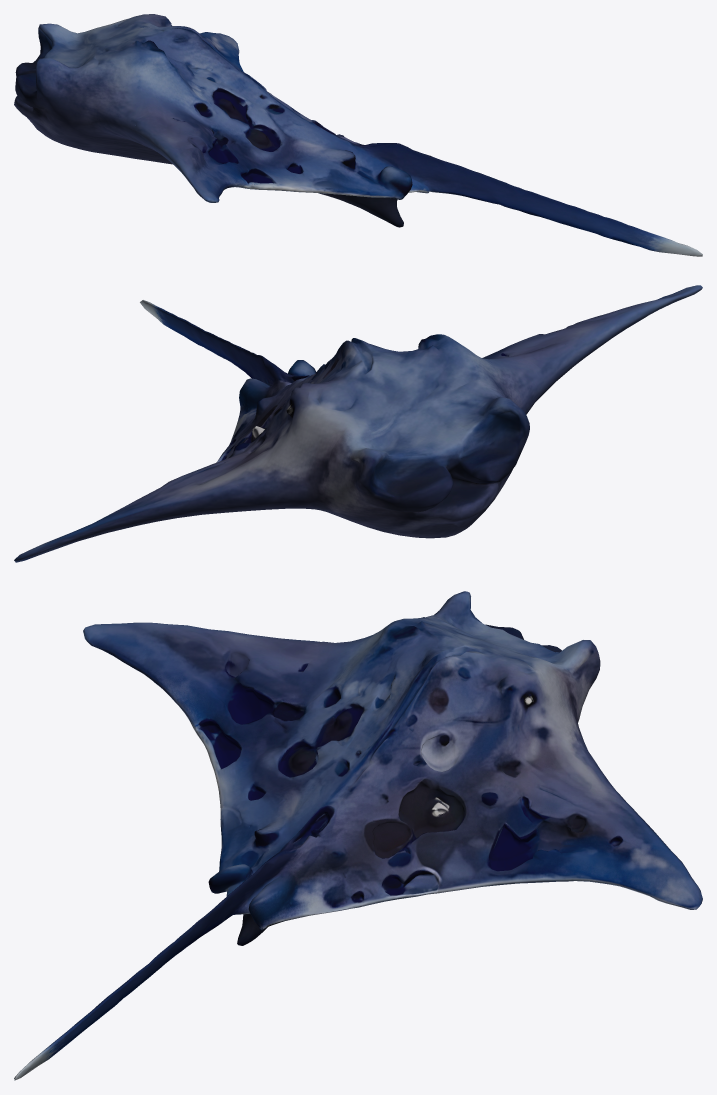
File: manta_ray.glb
3 views of the same model, one above another, from view 1: azimuth 30°, elevation 25°; view 2: azimuth 150°, elevation 25°; view 3: azimuth 270°, elevation 25° (orthographic). The views are drawn at different scales.
Parts seen in each view (by area): view 1: tripo_node_f57514a1-51a5-47d8-8b32-bb49f2d0eb9c; view 2: tripo_node_f57514a1-51a5-47d8-8b32-bb49f2d0eb9c; view 3: tripo_node_f57514a1-51a5-47d8-8b32-bb49f2d0eb9c.
Boxes of the visible parts, <box> form: tripo_node_f57514a1-51a5-47d8-8b32-bb49f2d0eb9c: <box>14,14,702,256</box>; tripo_node_f57514a1-51a5-47d8-8b32-bb49f2d0eb9c: <box>14,285,702,562</box>; tripo_node_f57514a1-51a5-47d8-8b32-bb49f2d0eb9c: <box>14,591,702,1080</box>.
Size of the model in its own units: 0.9807 by 0.3636 by 1.
Materials: 1 (1 with a texture image).
